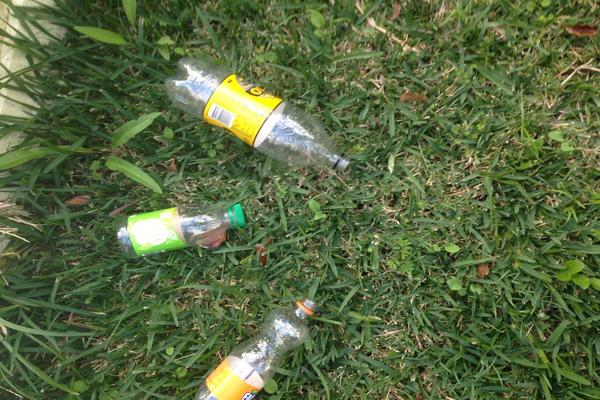Plastic Bottle: (167, 57, 350, 175), (193, 299, 316, 400), (117, 203, 245, 255)
